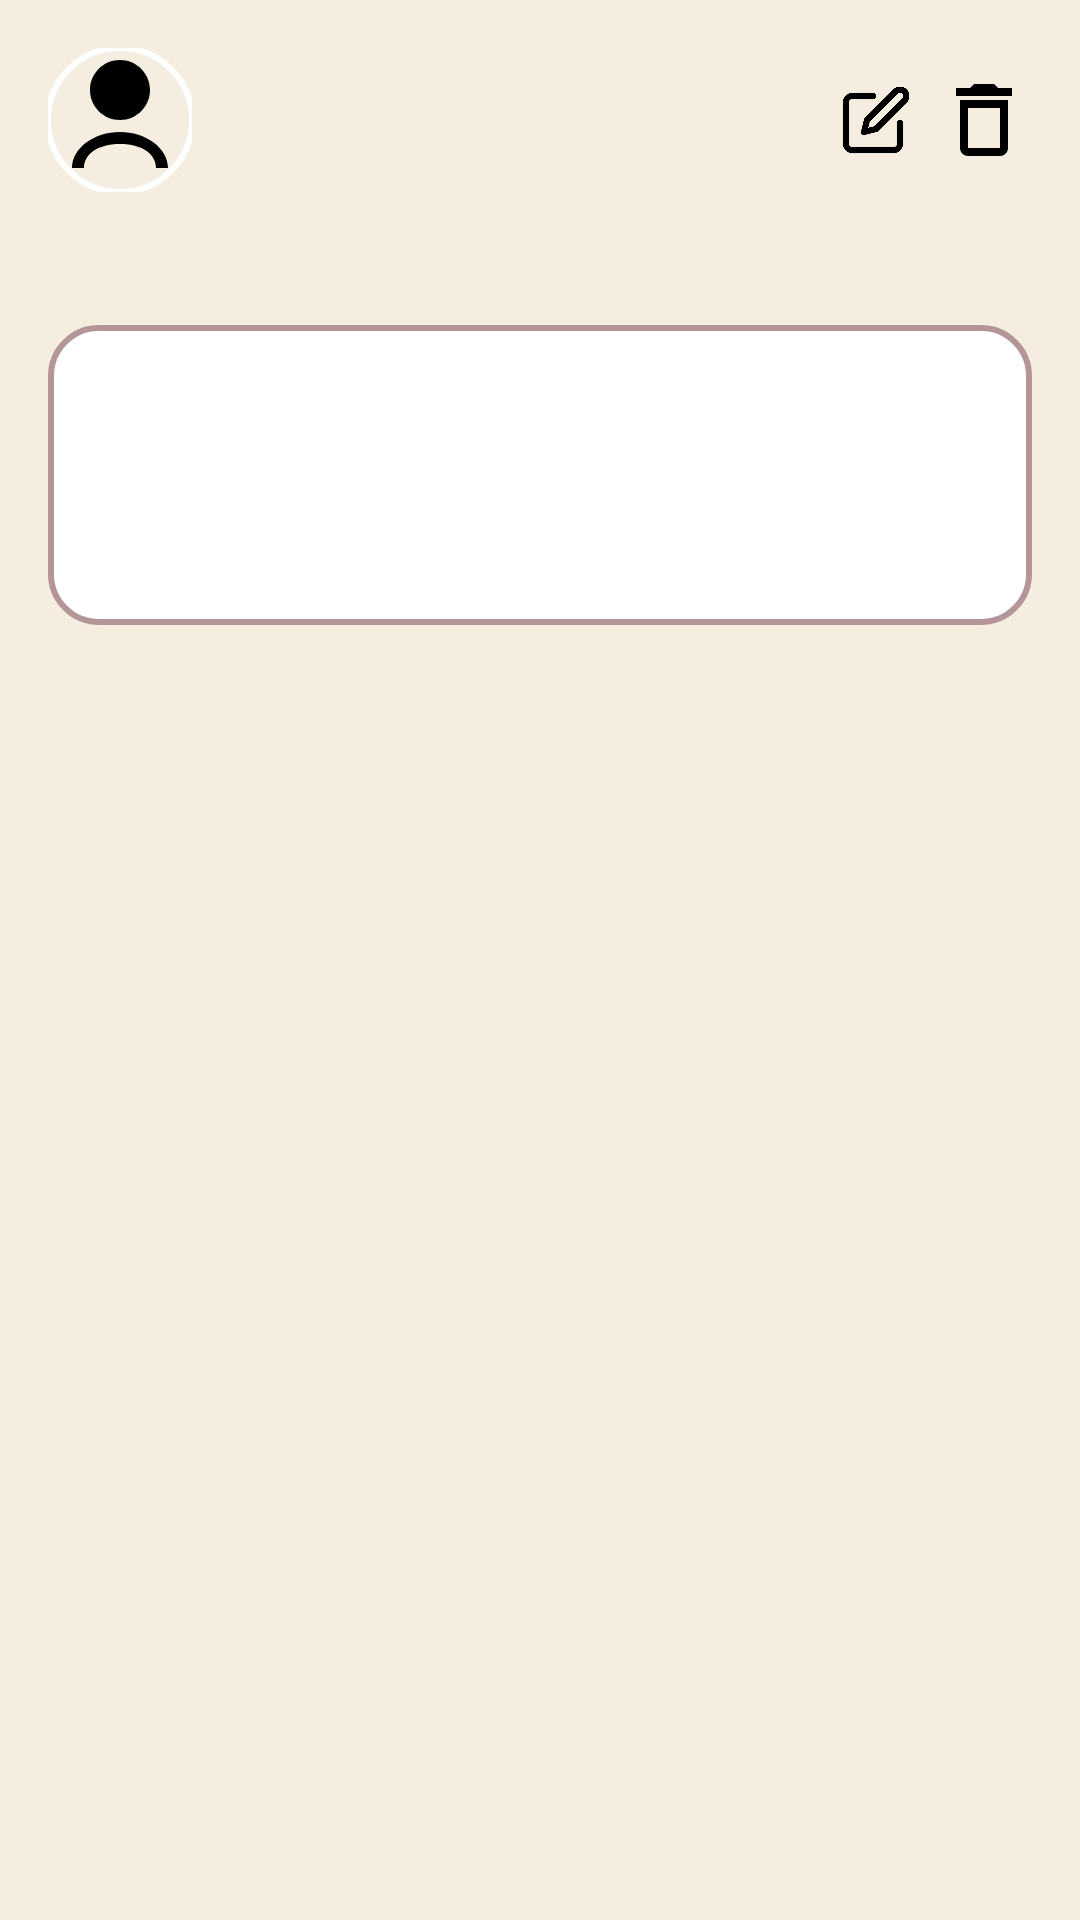

Icon bounding boxes for this 1080*1920 phone screenshot, format (x1, y1, x2, y2):
delete: (956, 84, 1012, 156)
edit: (843, 87, 909, 153)
profile: (48, 48, 192, 192)
